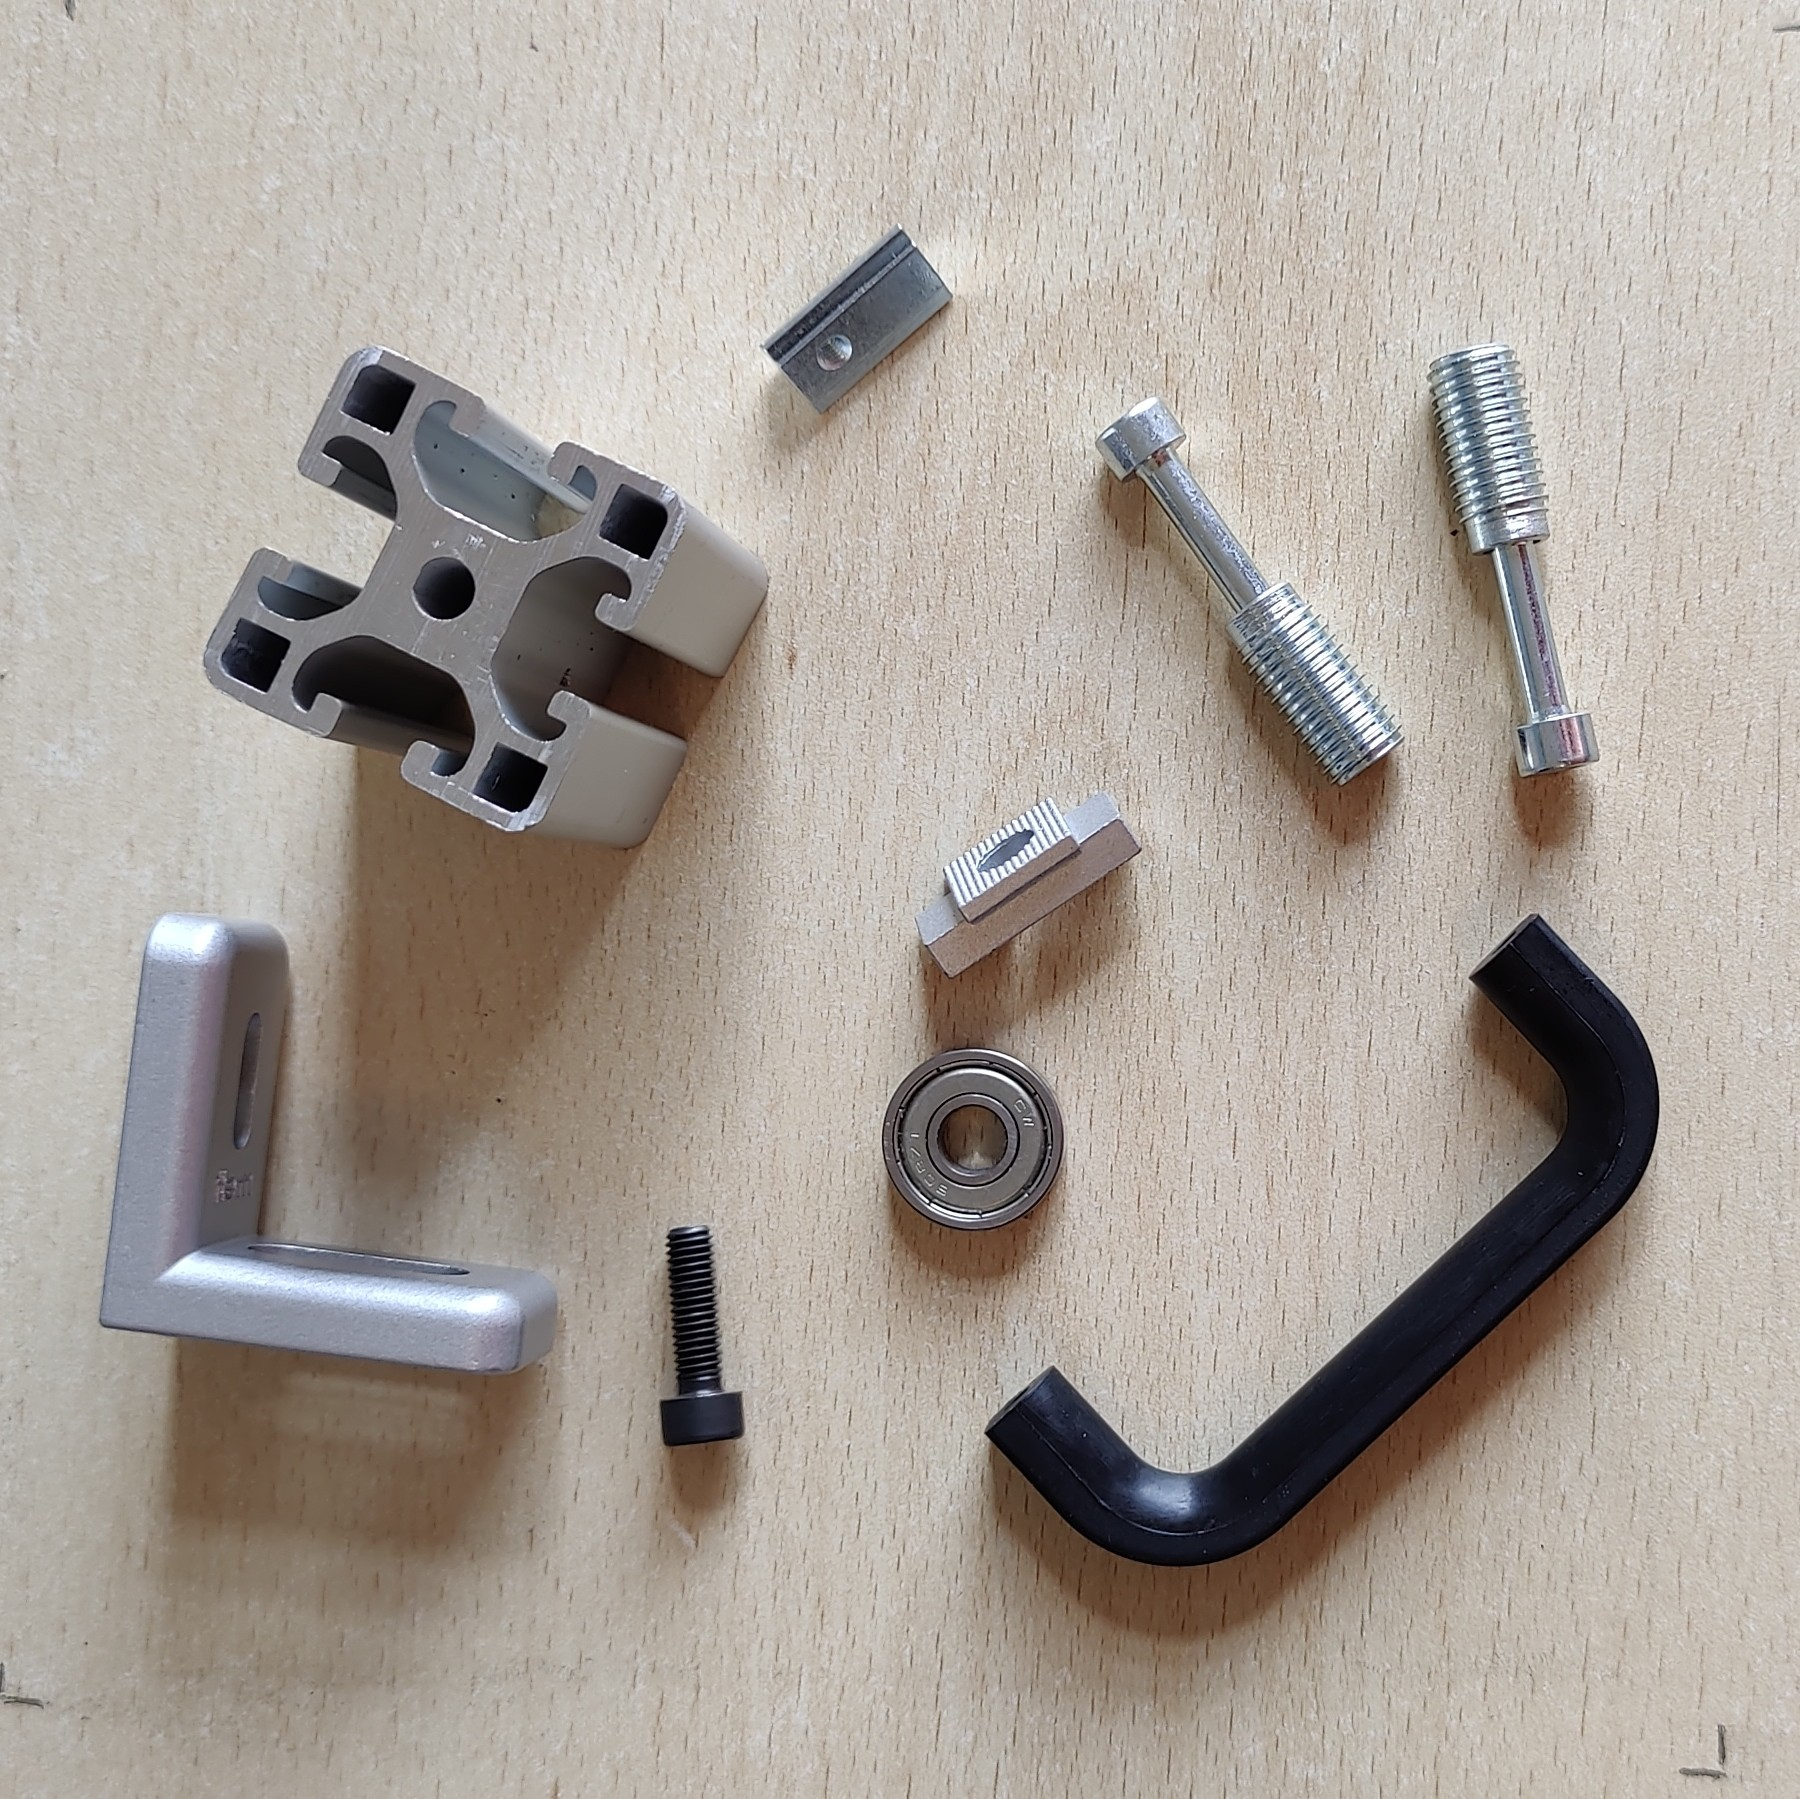Aluminium Extension: (201, 344, 771, 852)
Ball Bearing: (879, 1044, 1066, 1232)
Multiwinkel: (97, 908, 562, 1376)
Pull Handle: (986, 911, 1663, 1568)
Shoulder Socket Head Cap Screw: (1092, 390, 1410, 791), (1425, 344, 1606, 783)
Socket Head Cap Screw: (659, 1217, 748, 1451)
T Nut Square: (911, 787, 1146, 984)
T Spring Nut: (759, 217, 954, 417)
